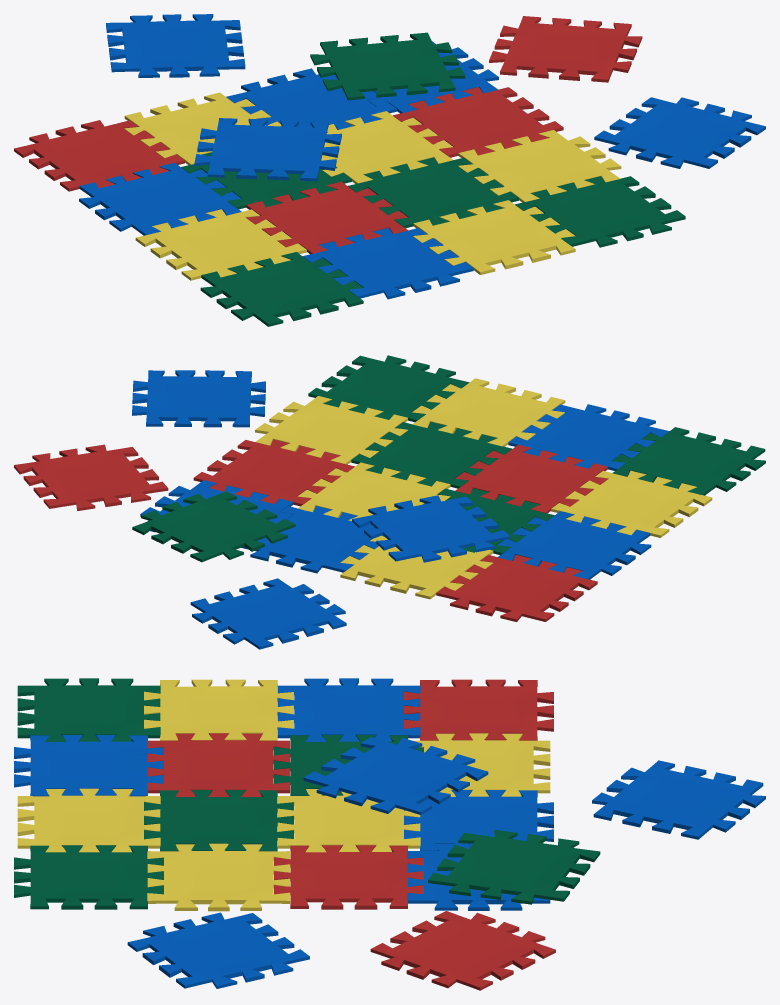
File: puzzle_dywan.fbx
3 renders of one model, top to bottom at view 1: azimuth 30°, elevation 25°; view 2: azimuth 150°, elevation 25°; view 3: azimuth 270°, elevation 25°, orthographic. The views are drawn at different scales.
Visible parts, largest first — view 1: group2; view 2: group2; view 3: group2.
Part boxes in pixels (x1,y1,x2,y2): group2: (14, 14, 765, 326); group2: (14, 355, 765, 649); group2: (14, 678, 765, 990).
Size of the model in its own units: 31.44 by 0.3619 by 32.32.
